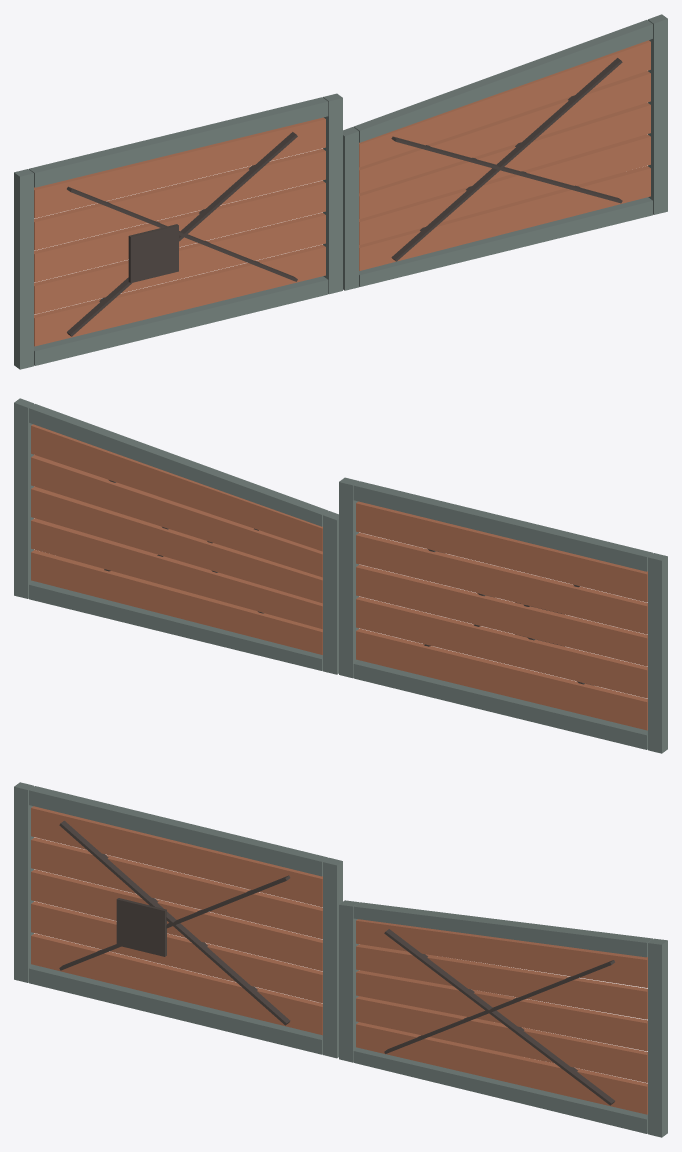
The model's file is SM_PuertaViaDoble_v2_Tablones_e1_Danado_LOD1.fbx.
The picture shows the model from 3 angles, top to bottom: view 1: azimuth 30°, elevation 25°; view 2: azimuth 150°, elevation 25°; view 3: azimuth 330°, elevation 25°; orthographic projection.
Parts seen in each view (by area): view 1: Hoja_O, Hoja_E; view 2: Hoja_O, Hoja_E; view 3: Hoja_O, Hoja_E.
Boxes of the visible parts, x1,y1,x2,y2 form: Hoja_O: (14, 93, 342, 369); Hoja_E: (343, 14, 667, 290); Hoja_O: (339, 477, 667, 753); Hoja_E: (14, 398, 338, 674); Hoja_O: (14, 782, 342, 1058); Hoja_E: (339, 900, 667, 1137).
Size of what is drawn, in the model's own units: 7.38 by 2.1 by 0.2.
